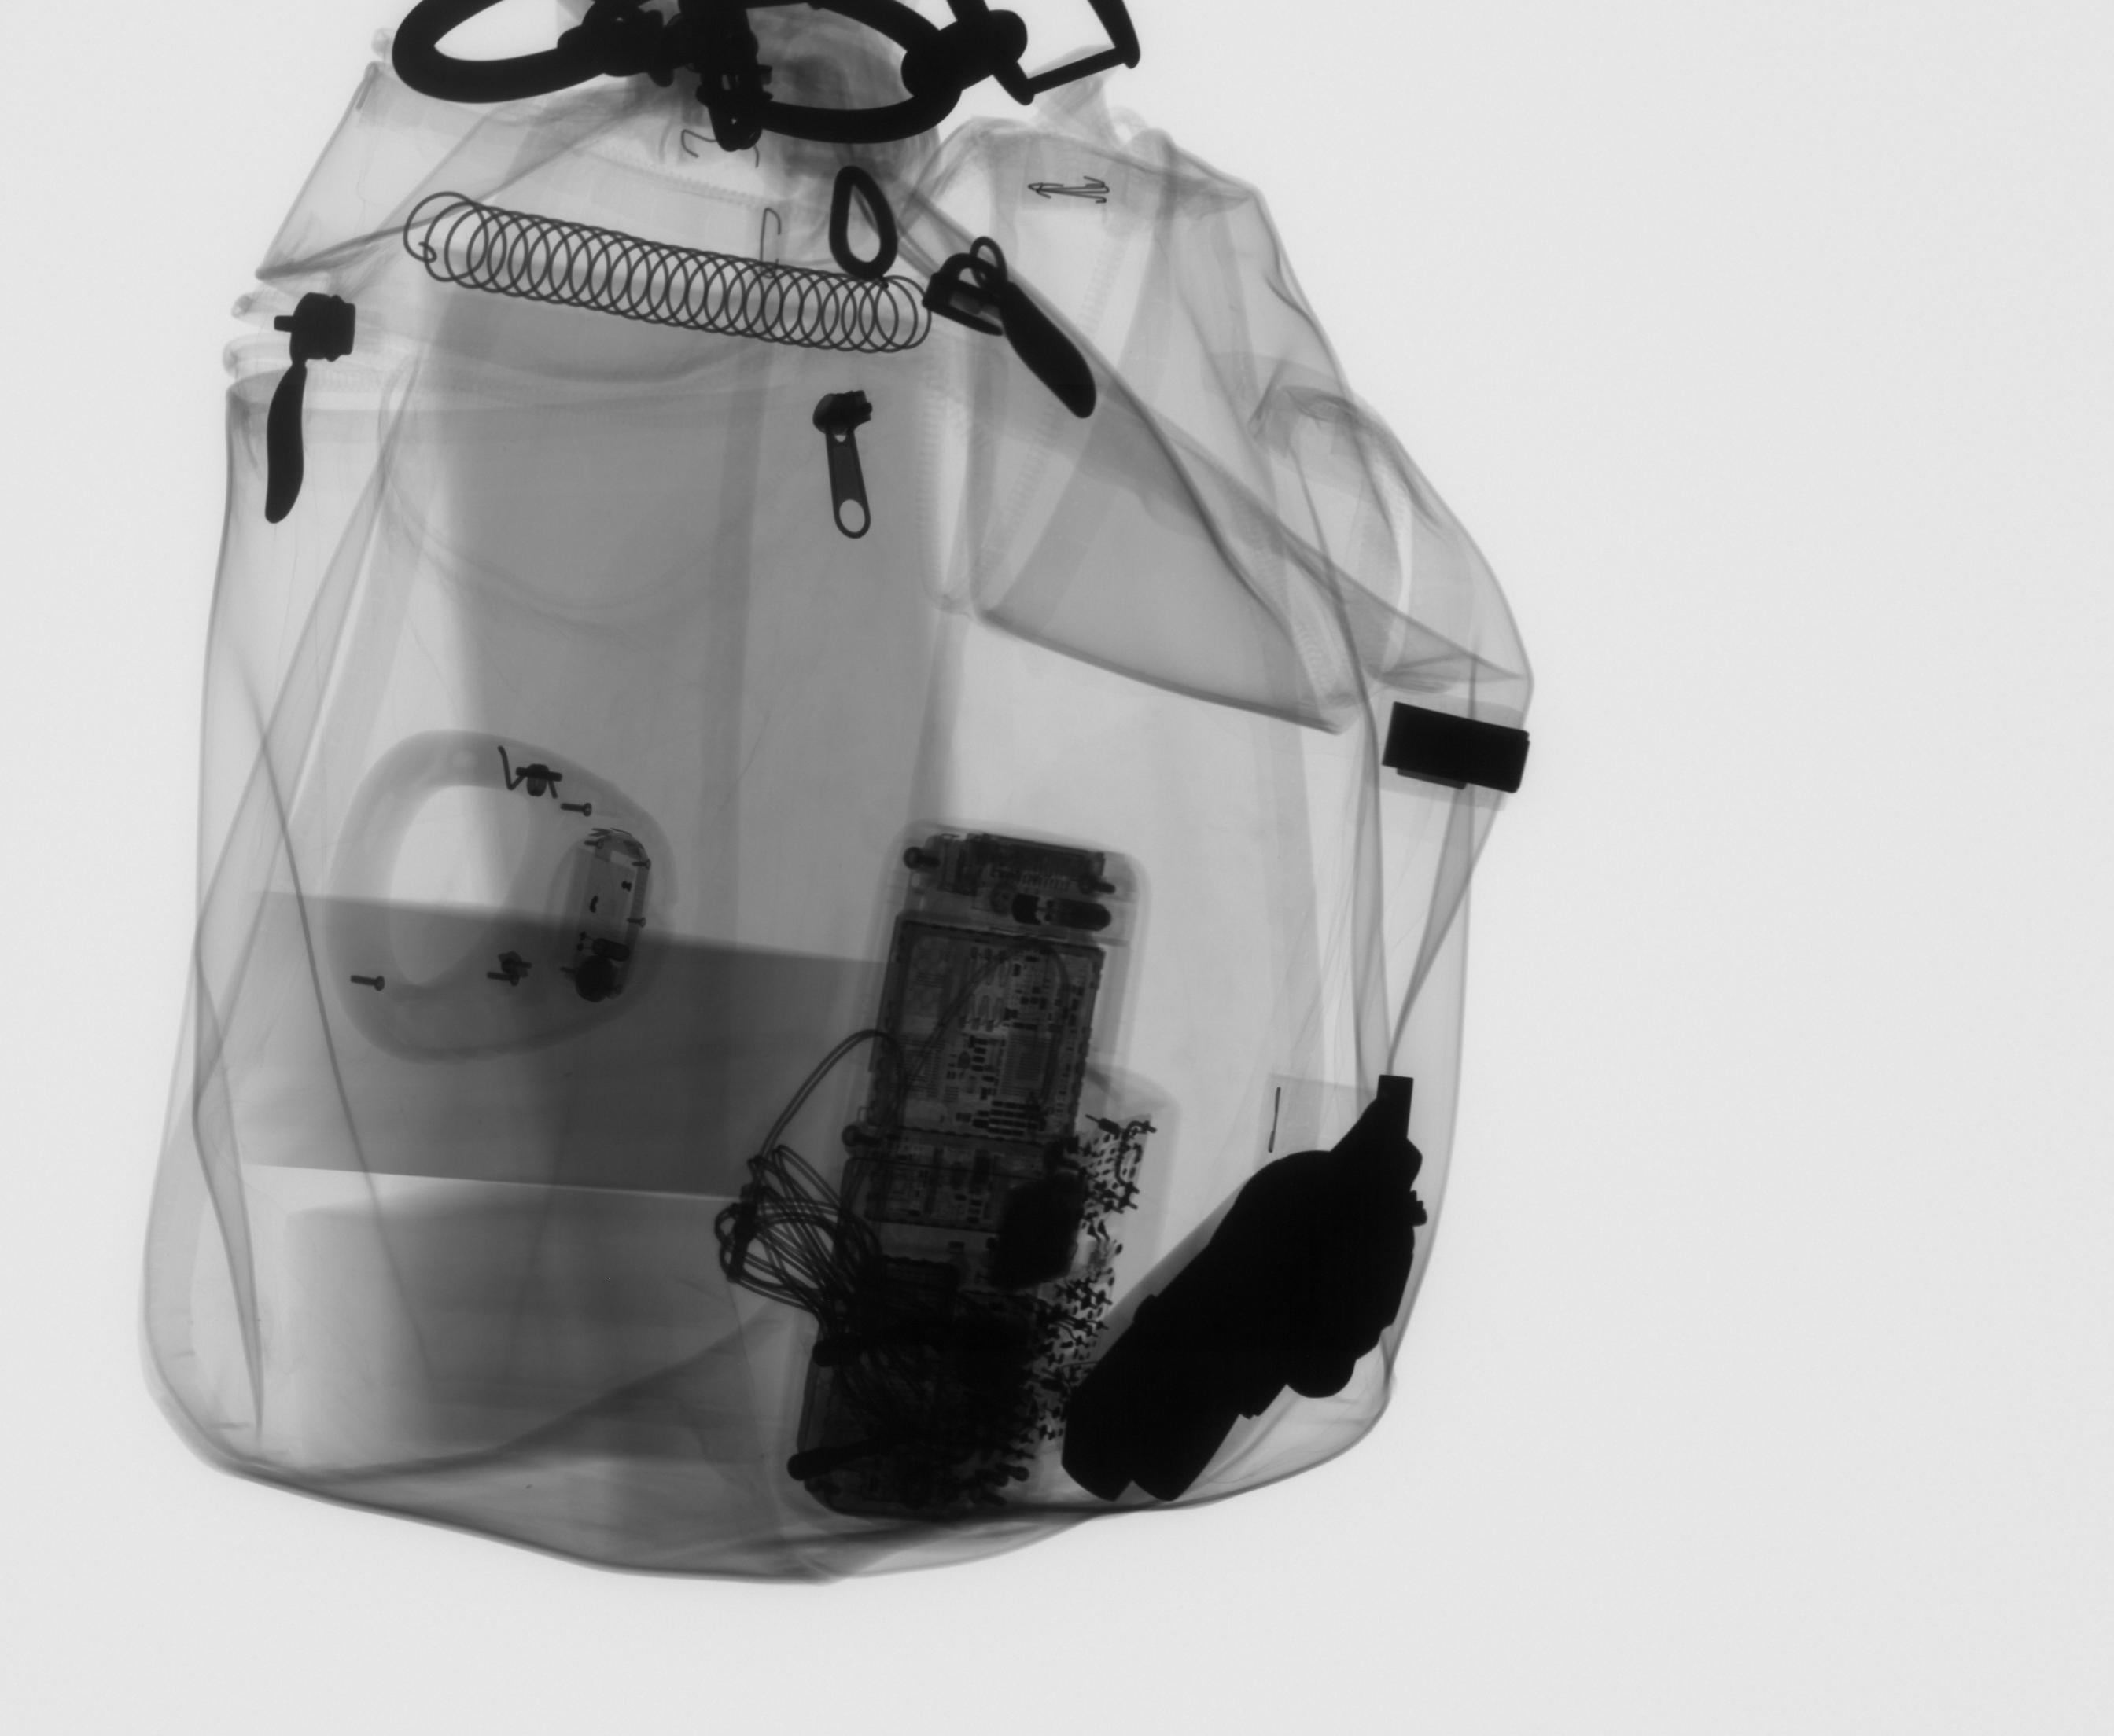Handgun: (1050, 1058, 1456, 1536)
